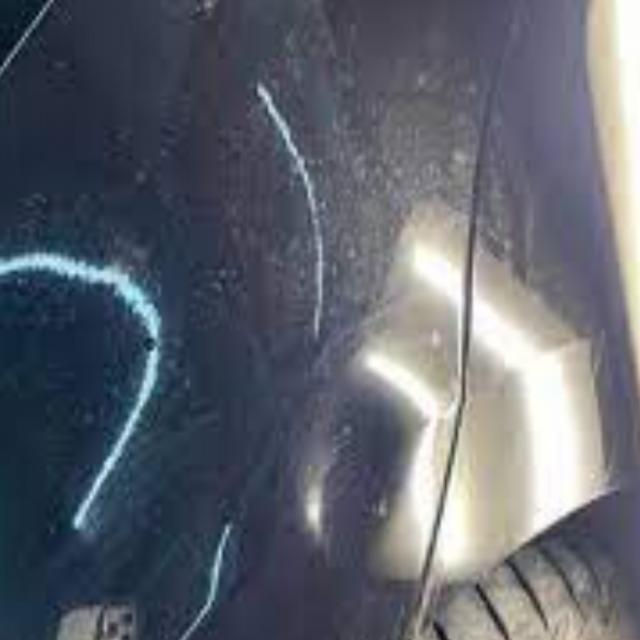dents: (292, 354, 461, 586)
